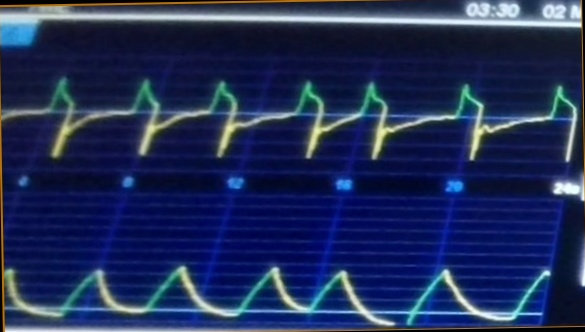Premature_cycling Flow: (2, 65, 580, 171)
Premature_cycling Volume: (5, 239, 553, 326)
